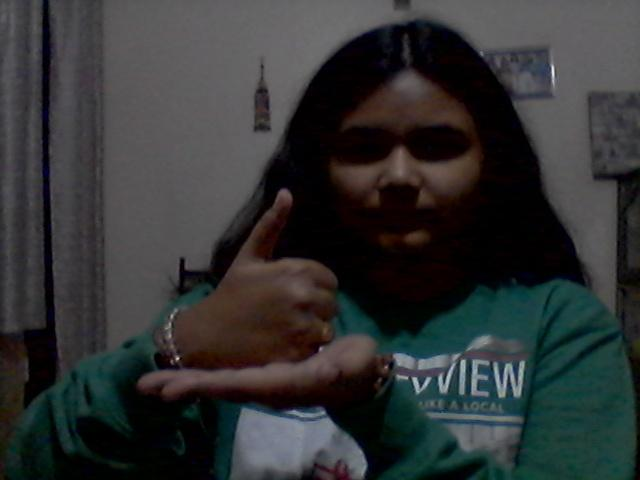help: (126, 180, 400, 415)
